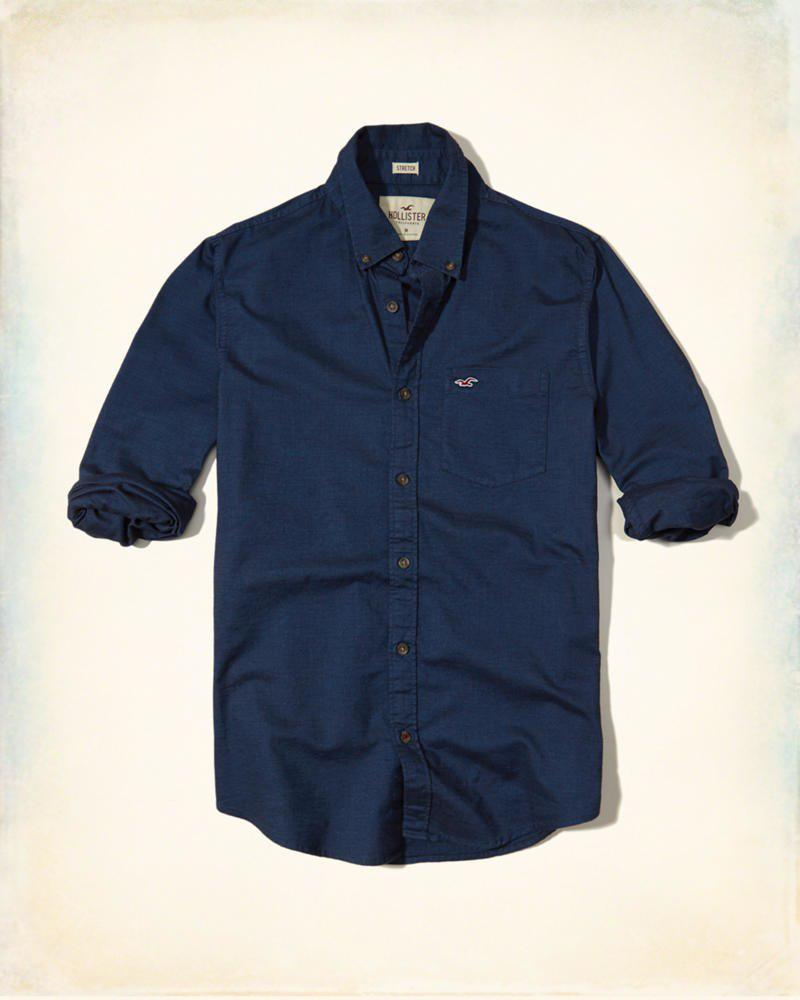teeshirt: (76, 116, 752, 828)
